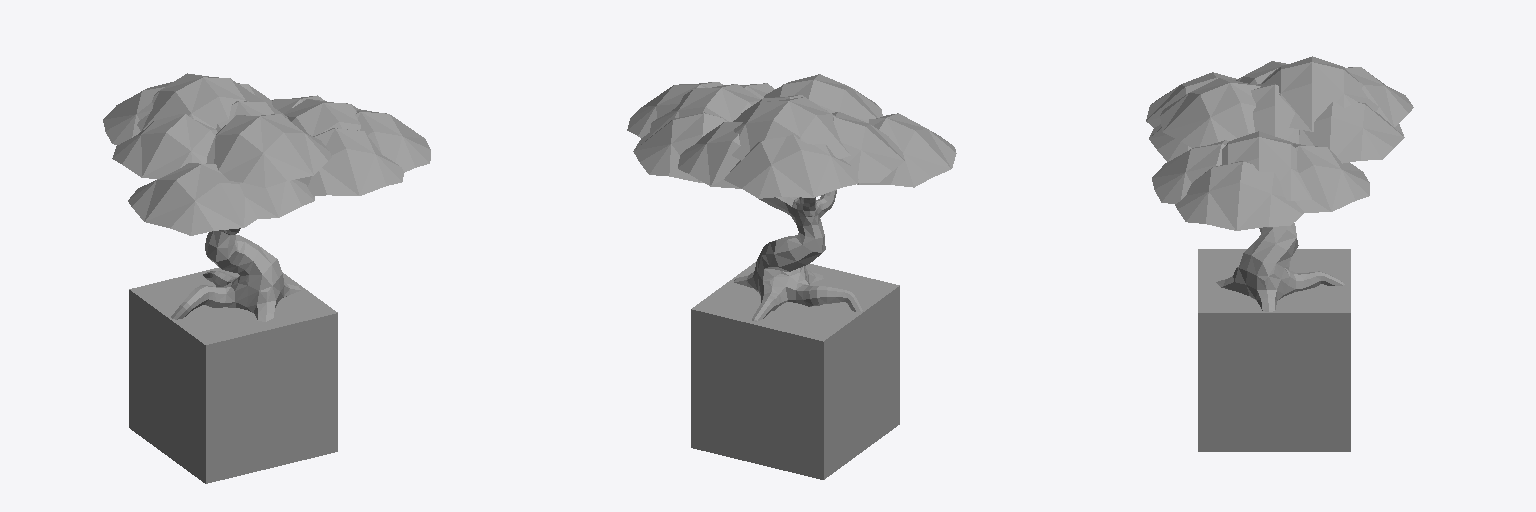
Rendered from HandpaintedTree_Normalized.obj.
The picture shows the model from 3 angles: view 1: azimuth 30°, elevation 25°; view 2: azimuth 150°, elevation 25°; view 3: azimuth 270°, elevation 25°; orthographic projection.
Parts seen in each view (by area): view 1: Ground_Cube, Leaves_Plane.008, Trunk_Cube.001; view 2: Ground_Cube, Leaves_Plane.008, Trunk_Cube.001; view 3: Leaves_Plane.008, Ground_Cube, Trunk_Cube.001.
Boxes of the visible parts, x1=… form: Ground_Cube: x1=129, y1=268, x2=337, y2=483; Leaves_Plane.008: x1=103, y1=73, x2=430, y2=235; Trunk_Cube.001: x1=171, y1=228, x2=300, y2=321; Ground_Cube: x1=691, y1=261, x2=899, y2=479; Leaves_Plane.008: x1=627, y1=74, x2=956, y2=198; Trunk_Cube.001: x1=734, y1=190, x2=862, y2=321; Leaves_Plane.008: x1=1146, y1=56, x2=1413, y2=230; Ground_Cube: x1=1198, y1=249, x2=1350, y2=451; Trunk_Cube.001: x1=1216, y1=223, x2=1344, y2=311.
Size of the model in its own units: 1.43 by 1.62 by 1.12.